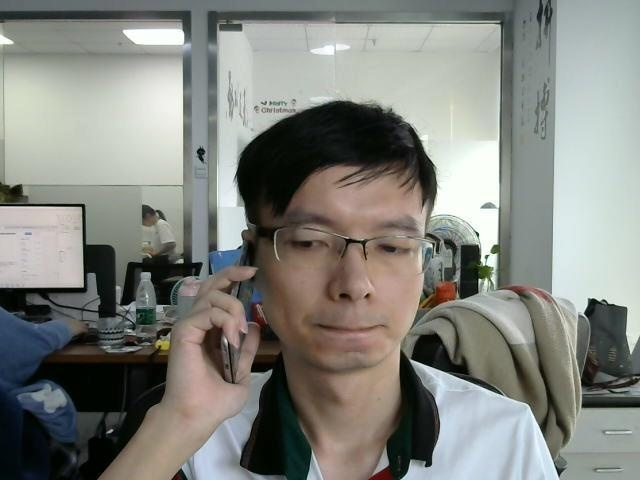hand: (166, 265, 265, 415)
